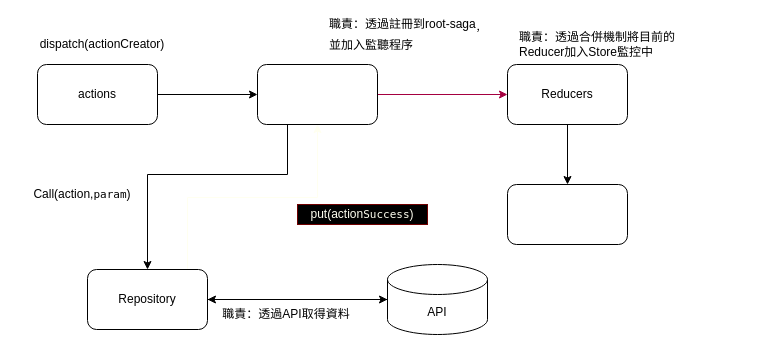
Image size: 774x352. Some labels were removed from this diagram. Here are the shapes that lost their labels. From the top down, the centre of each, then its label:
(317,94): sagas
(567,214): 更新 state
